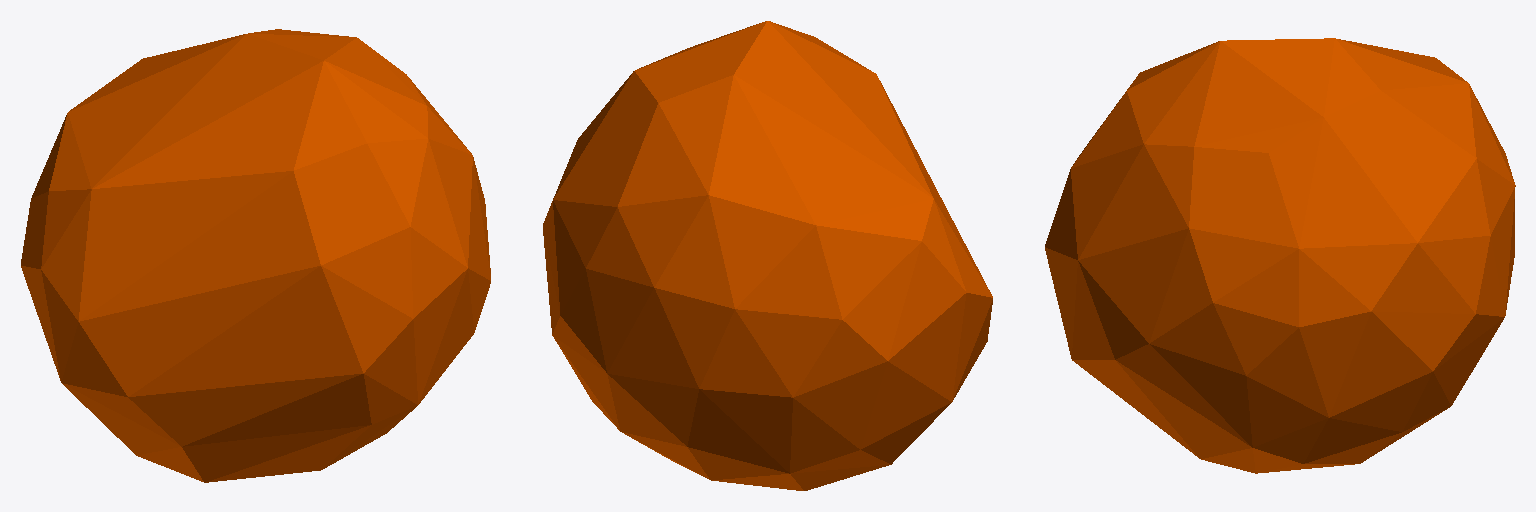
URDF robot description (SpidermanLHandSphere):
<?xml version="1.0"?>
<robot name="SpidermanLHandSphere">

  <link name="base_link"/>
  <joint name="base_link_J" type="fixed">
      <parent link="base_link"/>
      <child link="Pelvis"/>
      <origin rpy="0 0 0" xyz="0 0 0"/>
   </joint>

   <link name="Pelvis"/>
   <link name="Thorax_rx"/>
   <link name="Thorax_ry"/>
   <link name="Thorax"/>

  <joint name="thorax_lhand_rom_joint" type="fixed">
      <parent link="Thorax"/>
      <child link="thorax_lhand_rom"/>
      <origin rpy="0 0 0" xyz="0 0 0"/>
   </joint>

  <link name="thorax_lhand_rom">
      <visual>
         <origin xyz="0 0 0" rpy="0 0 0"/>
         <geometry>
            <mesh filename="package://hpp-rbprm-corba/meshes/spiderman/lhand_rom.stl"/>
         </geometry>
      </visual>
	  <collision>
         <origin xyz="0 0 0" rpy="0 0 0"/>
         <geometry>
            <mesh filename="package://hpp-rbprm-corba/meshes/spiderman/lhand_rom.stl"/>
         </geometry>
      </collision>
   </link>


   <link name="Skull_rx"/>
   <link name="Skull_ry"/>
   <link name="Skull"/>

  <joint name="A_Thorax_rx" type="revolute"> <!-- A_ added for order while parsing with ROS -->
      <parent link="Pelvis"/>
      <child link="Thorax_rx"/>
      <origin rpy="0 0 0" xyz="0.0373 0.0006 0.0788"/>
      <axis xyz="1 0 0"/>
      <limit effort="0" lower="-1" upper="1" velocity="1.0"/>
   </joint>
   <joint name="Thorax_ry" type="revolute">
      <parent link="Thorax_rx"/>
      <child link="Thorax_ry"/>
      <origin rpy="0 0 0" xyz="0 0 0"/>
      <axis xyz="0 1 0"/>
      <limit effort="0" lower="-0.8" upper="0.8" velocity="1.0"/>
   </joint>
   <joint name="Thorax_rz" type="revolute">
      <parent link="Thorax_ry"/>
      <child link="Thorax"/>
      <origin rpy="0 0 0" xyz="0 0 0"/>
      <axis xyz="0 0 1"/>
      <limit effort="0" lower="-1.5" upper="1.5" velocity="1.0"/>
   </joint>
   <joint name="A_Skull_rx" type="revolute"> <!-- A_ added for order while parsing with ROS -->
      <parent link="Thorax"/>
      <child link="Skull_rx"/>
      <origin rpy="0 0 0" xyz="0.0711 -0.0005 0.6039"/>
      <axis xyz="1 0 0"/>
      <limit effort="0" lower="-0.3" upper="0.3" velocity="1.0"/>
   </joint>
   <joint name="Skull_ry" type="revolute">
      <parent link="Skull_rx"/>
      <child link="Skull_ry"/>
      <origin rpy="0 0 0" xyz="0 0 0"/>
      <axis xyz="0 1 0"/>
      <limit effort="0" lower="-1.1" upper="0.6" velocity="1.0"/>
   </joint>
   <joint name="Skull_rz" type="revolute">
      <parent link="Skull_ry"/>
      <child link="Skull"/>
      <origin rpy="0 0 0" xyz="0 0 0"/>
      <axis xyz="0 0 1"/>
      <limit effort="0" lower="-1.4" upper="1." velocity="1.0"/>
   </joint>
</robot>

--- Render facts (derived) ---
The picture shows the robot from 3 angles, left to right: view 1: azimuth 30°, elevation 25°; view 2: azimuth 150°, elevation 25°; view 3: azimuth 270°, elevation 25°; orthographic projection.
Robot: SpidermanLHandSphere — 9 links, 8 joints (6 revolute, 2 fixed); root link base_link; default pose: every joint at zero.
Visible links, largest first — view 1: thorax_lhand_rom; view 2: thorax_lhand_rom; view 3: thorax_lhand_rom.
Boxes of the visible links, x1,y1,x2,y2 form: thorax_lhand_rom: [21, 29, 490, 482]; thorax_lhand_rom: [543, 21, 992, 490]; thorax_lhand_rom: [1045, 38, 1515, 473].
Size in the robot's own frame: 1.24 by 1.2 by 1.21 metres.
1 mesh visuals loaded from 1 distinct referenced files (1 binary STL).
